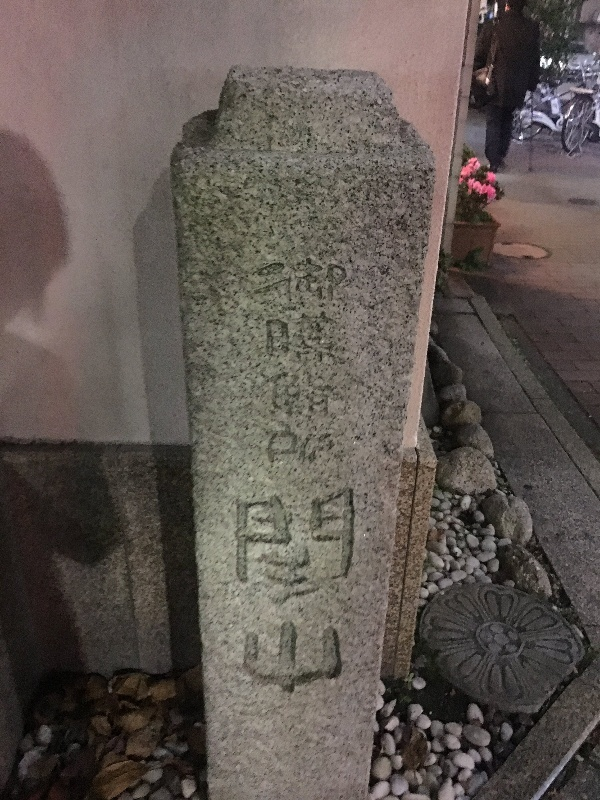text: (241, 486, 256, 699), (257, 486, 272, 699), (273, 486, 288, 699), (289, 486, 304, 699), (305, 486, 320, 699), (321, 486, 336, 699), (337, 486, 352, 699), (257, 257, 272, 470), (273, 257, 288, 470), (289, 257, 304, 470), (305, 257, 320, 470), (321, 257, 336, 470), (337, 257, 349, 470), (234, 486, 240, 699), (353, 486, 355, 699)
